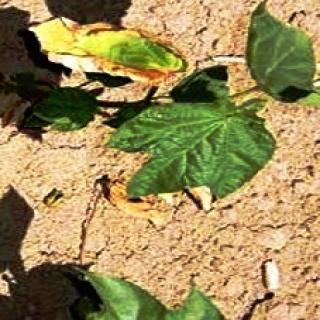wilt: (24, 11, 192, 81)
